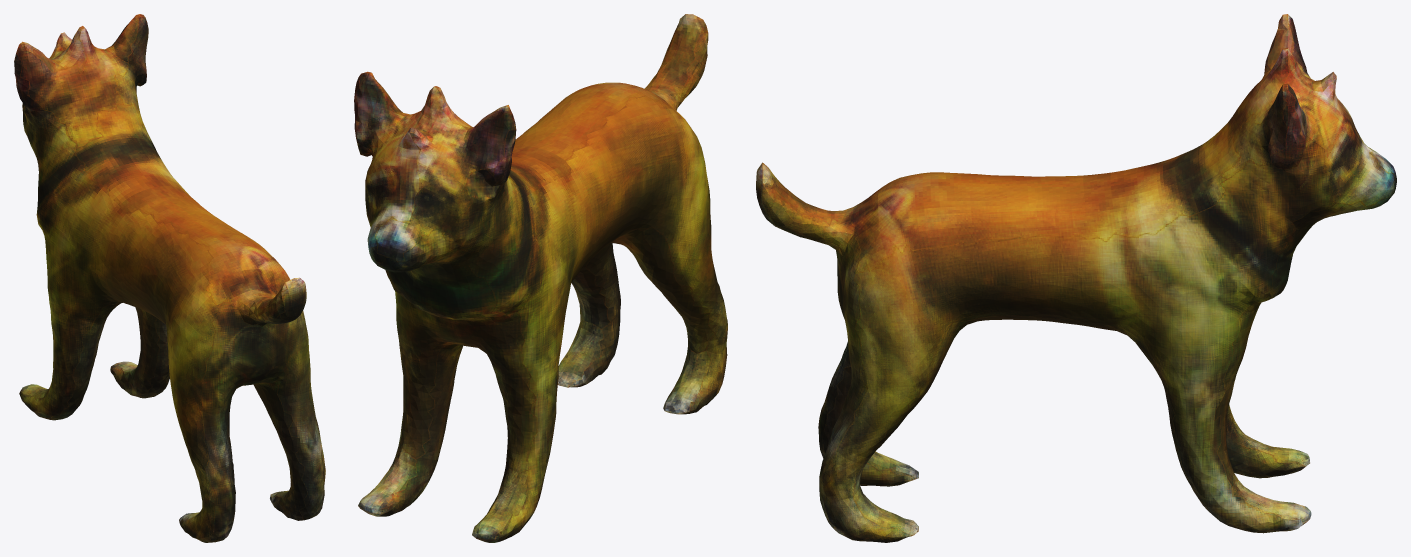
File: a dog.glb
3 renders of one model, left to right at view 1: azimuth 30°, elevation 25°; view 2: azimuth 150°, elevation 25°; view 3: azimuth 270°, elevation 25°, orthographic. The views are drawn at different scales.
Bounding box in the file's own units: 0.2961 × 0.7939 × 0.9952.
Materials: 1 (1 with a texture image).
